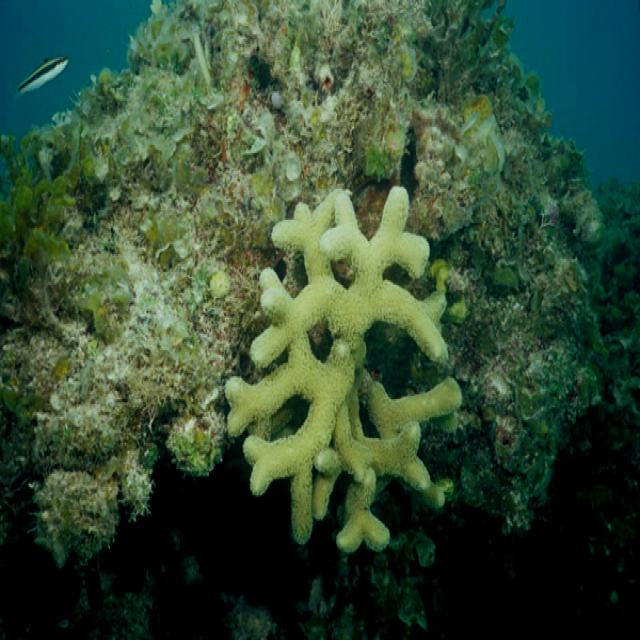Coral: (224, 184, 463, 556)
